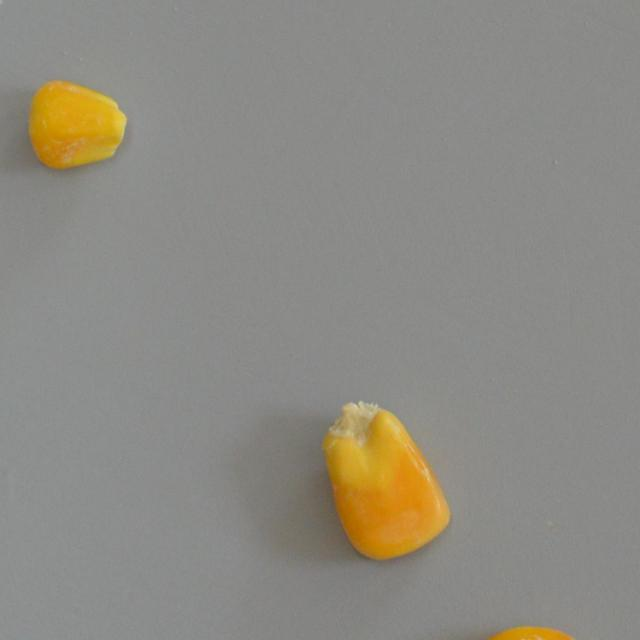entero: (320, 394, 459, 566)
no_desgerminado: (459, 621, 603, 640)
pelicula: (24, 76, 129, 172)
